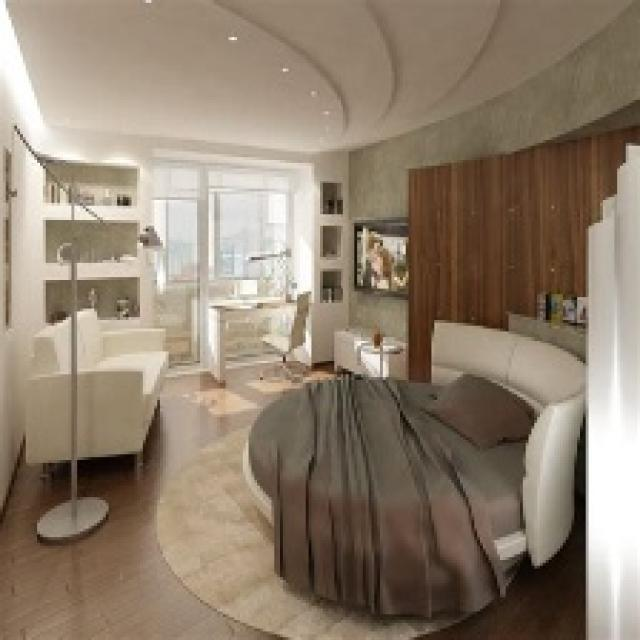Bed: (240, 314, 586, 617)
